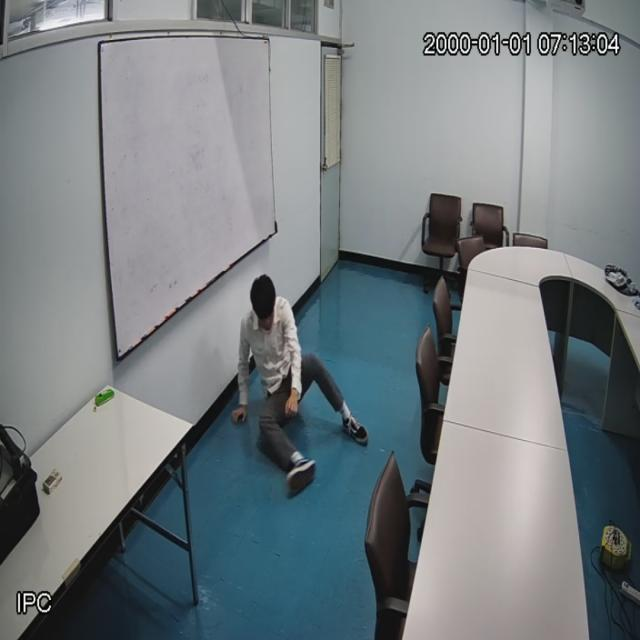normal: (226, 262, 371, 494)
